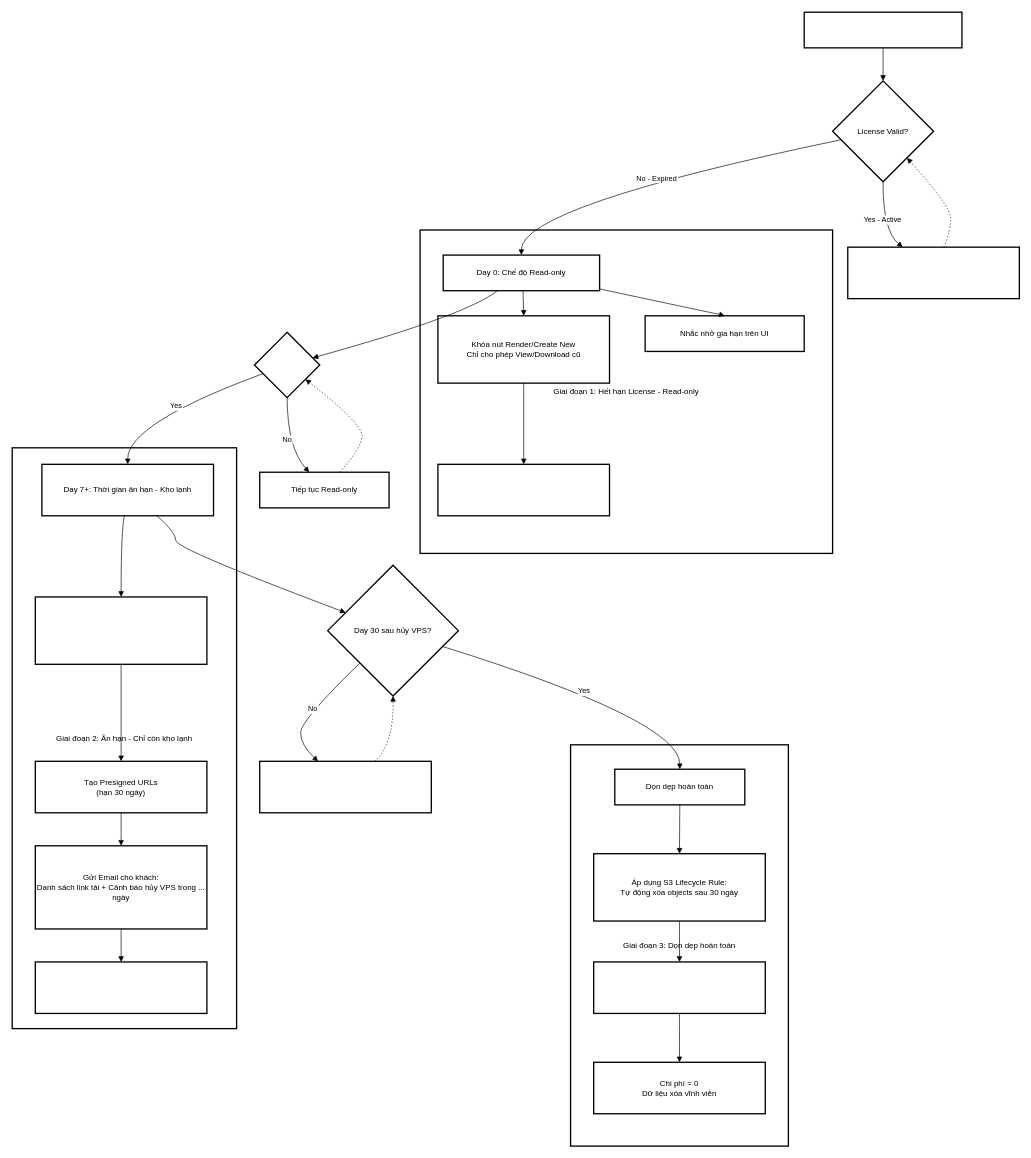
This 1031x1158 diagram has some shape labels left out. The centre of each missing label's shape, as x and y in pixels:
"Day 7?" goes at pixel 286 364.
"Giữ S3 bucket với Presigned URLs" goes at pixel 345 786.
"License Check Daily Cron" goes at pixel 882 29.
"Mục tiêu: Giảm tải server, khuyến khích renew" goes at pixel 523 489.
"Normal Operation Full Access & Render" goes at pixel 933 272.
"Terminate VPS qua API (AWS/Hetzner)" goes at pixel 120 987.
"Trigger Script Takeout: Quét tất cả Video Final trong S3" goes at pixel 120 630.
"Xóa Bucket S3 + IP tĩnh + DNS record" goes at pixel 679 987.
